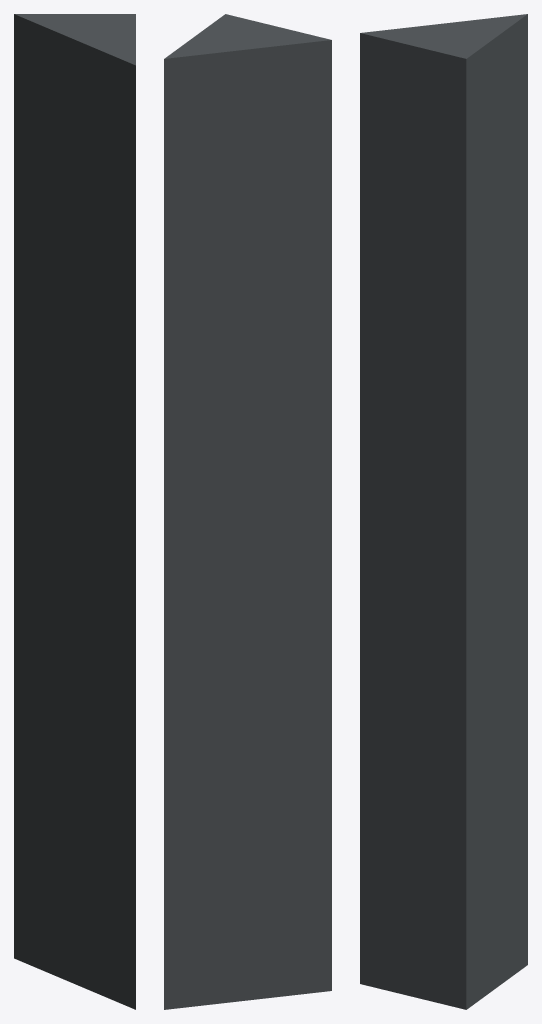
The model's file is EspacioContenidoEsquinaAperturaInteriorAltoNI.gltf.
The picture shows the model from 3 angles, left to right: view 1: azimuth 90°, elevation 25°; view 2: azimuth 150°, elevation 25°; view 3: azimuth 330°, elevation 25°; orthographic projection.
Visible parts, largest first — view 1: Cubo.20; view 2: Cubo.20; view 3: Cubo.20.
Boxes of the visible parts, left/top/right/bottom form: Cubo.20: left=14, top=14, right=135, bottom=1009; Cubo.20: left=164, top=14, right=331, bottom=1009; Cubo.20: left=360, top=14, right=527, bottom=1009.
Size of the model in its own units: 0.2341 by 2 by 0.2341.
Materials: 1 (1 with a texture image).
